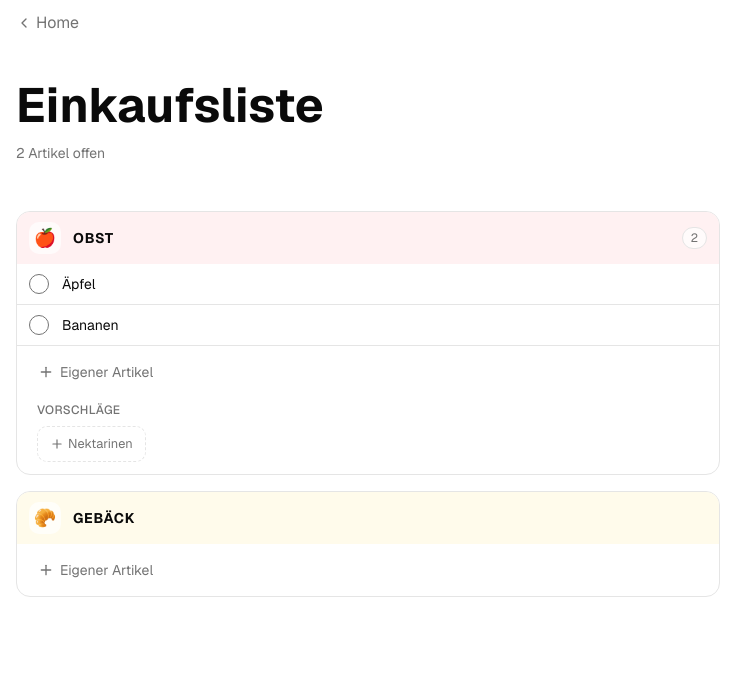
Test: adding an item › saves a typed draft when + is clicked instead of Enter
Click the button "Eigener Artikel" below "Gebäck": (107,570) top-left (29, 552), bottom-right (707, 588)
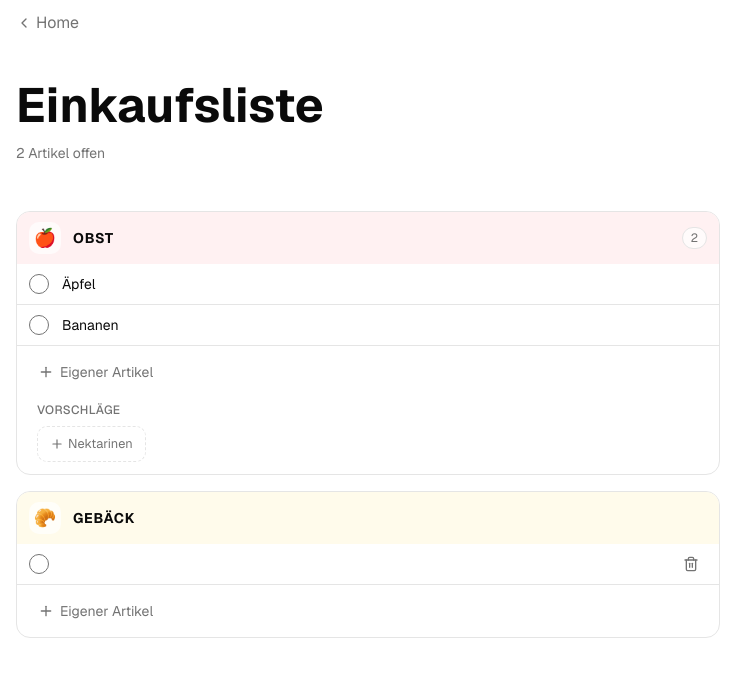
Type keys "Bananen"
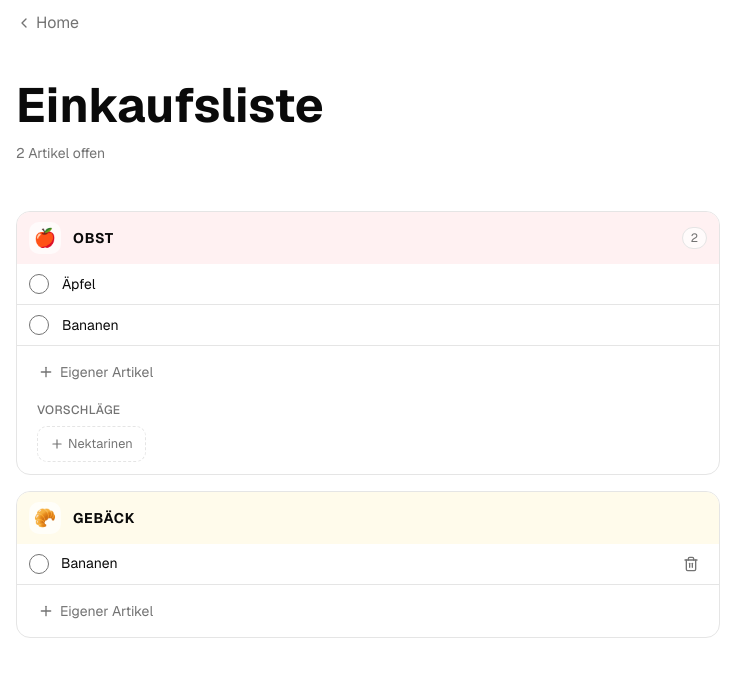
Click the button "Eigener Artikel" below "Gebäck": (107,611) top-left (29, 593), bottom-right (707, 629)
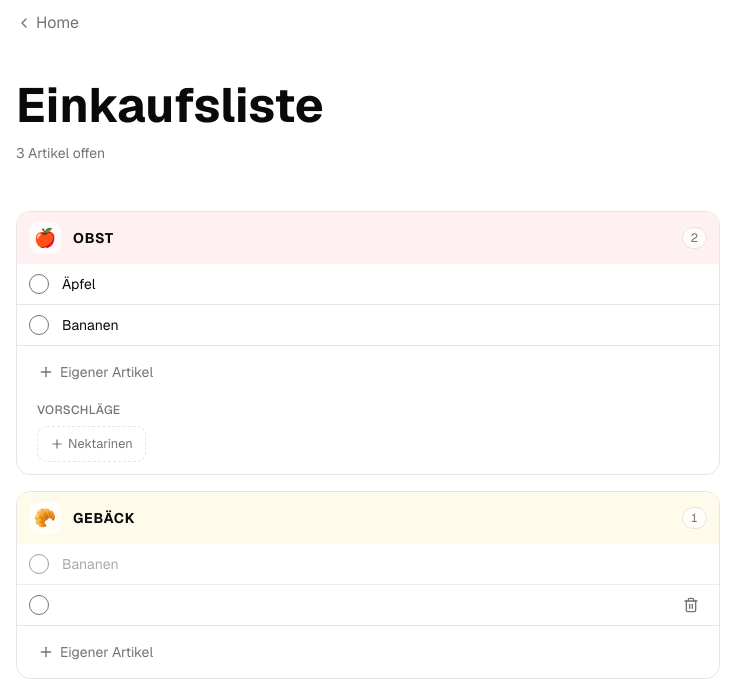
Expected: the field is empty, top-left (61, 595), bottom-right (663, 615)
Result: the button "Bananen" below "Gebäck" is shown at top-left (61, 553), bottom-right (663, 575)
